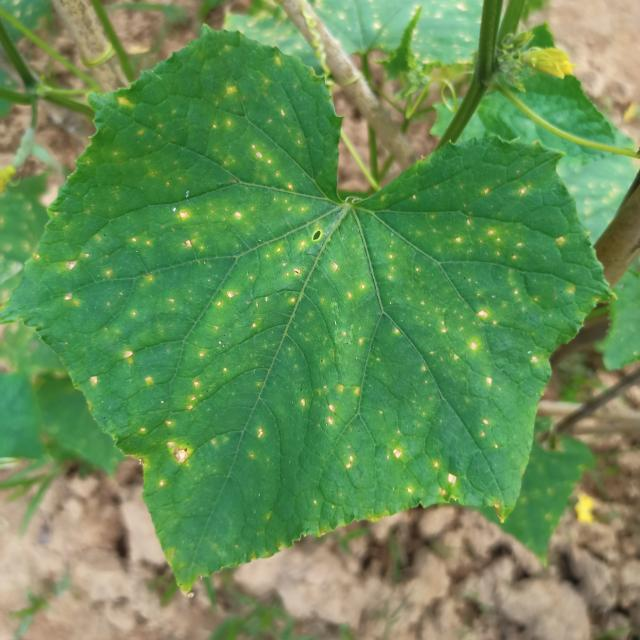disease_cucumber: (65, 62, 538, 546)
